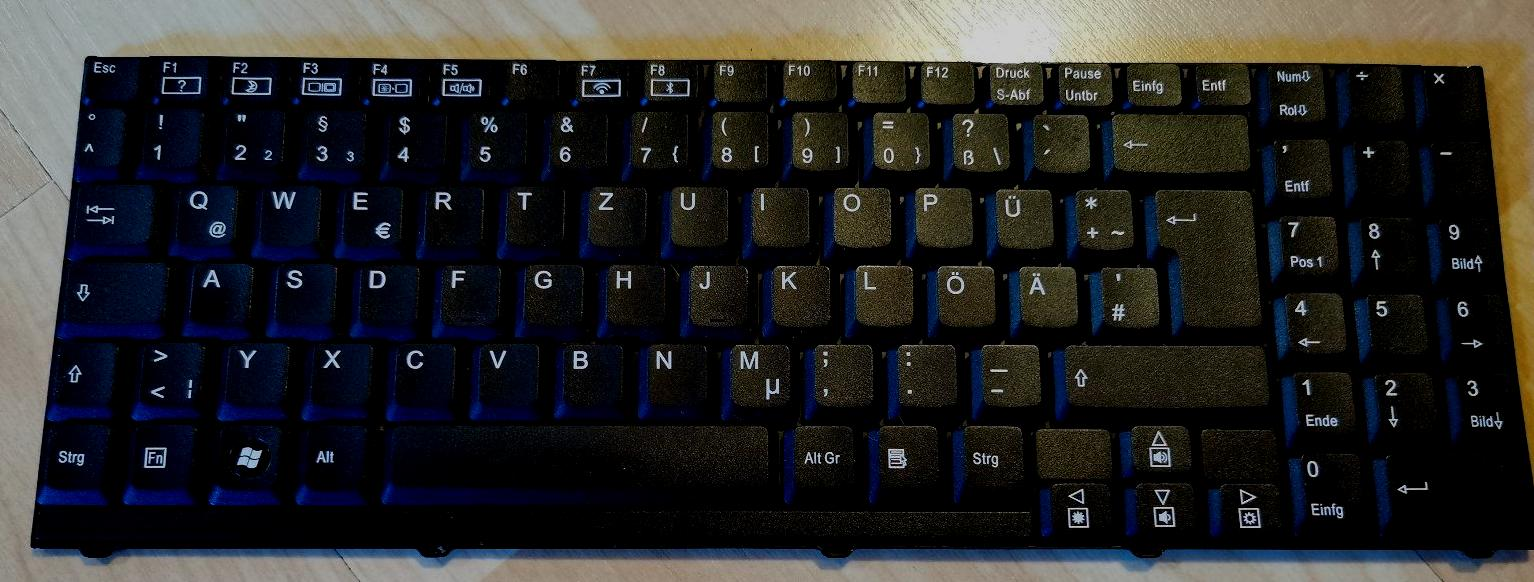0: (864, 107, 930, 173)
1: (135, 104, 201, 170)
2: (215, 105, 285, 175)
3: (293, 104, 366, 176)
4: (378, 106, 446, 173)
5: (457, 106, 526, 173)
6: (540, 107, 608, 174)
7: (623, 106, 688, 172)
8: (705, 107, 768, 172)
9: (785, 107, 849, 173)
a: (181, 257, 252, 326)
accent: (1027, 111, 1090, 173)
ae: (1013, 261, 1078, 328)
alt-left: (294, 419, 366, 493)
altgr-right: (784, 420, 856, 498)
b: (553, 338, 624, 408)
c: (386, 337, 454, 407)
caret: (72, 104, 125, 168)
comma: (808, 340, 875, 410)
d: (350, 259, 418, 327)
del: (1104, 109, 1250, 173)
e: (333, 180, 403, 252)
enter: (1146, 184, 1262, 331)
f: (433, 260, 500, 327)
g: (515, 259, 583, 327)
h: (599, 260, 667, 327)
hash: (1092, 261, 1160, 330)
i: (746, 183, 810, 248)
j: (683, 260, 749, 328)
k: (765, 260, 832, 327)
keyboard: (25, 48, 1534, 556)
l: (849, 260, 914, 327)
less: (129, 335, 204, 415)
m: (723, 339, 791, 410)
minus: (974, 339, 1041, 408)
n: (640, 339, 708, 408)
o: (826, 182, 892, 249)
oe: (929, 260, 996, 328)
p: (909, 183, 974, 249)
plus: (1069, 184, 1134, 251)
point: (890, 339, 959, 408)
q: (166, 179, 238, 249)
r: (416, 181, 485, 249)
s: (264, 257, 335, 327)
shift-left: (44, 338, 115, 406)
shift-lock: (57, 256, 166, 323)
shift-right: (1054, 339, 1272, 409)
space: (380, 418, 774, 495)
ss: (945, 108, 1009, 172)
strg-left: (36, 419, 109, 490)
strg-right: (954, 419, 1025, 496)
t: (498, 181, 566, 248)
tab: (66, 179, 153, 246)
u: (664, 182, 729, 248)
ue: (988, 184, 1055, 252)
v: (469, 337, 539, 410)
w: (252, 179, 319, 249)
x: (303, 337, 371, 406)
y: (216, 336, 288, 410)
z: (581, 181, 647, 247)
